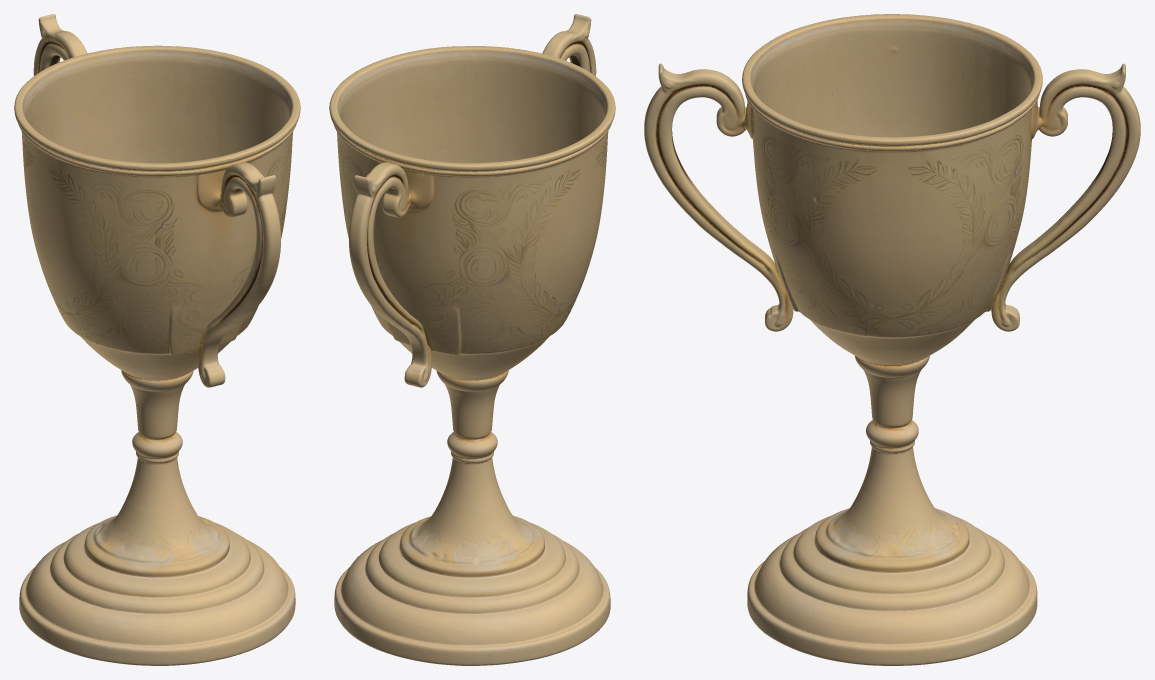
File: prop-trophy.glb
3 renders of one model, left to right at view 1: azimuth 30°, elevation 25°; view 2: azimuth 150°, elevation 25°; view 3: azimuth 270°, elevation 25°, orthographic. The views are drawn at different scales.
Visible parts, largest first — view 1: tripo_node_c4b4bc58-2219-408f-8e11-6c409434764b; view 2: tripo_node_c4b4bc58-2219-408f-8e11-6c409434764b; view 3: tripo_node_c4b4bc58-2219-408f-8e11-6c409434764b.
Part boxes in pixels (x1,y1,x2,y2): tripo_node_c4b4bc58-2219-408f-8e11-6c409434764b: (14, 14, 300, 665); tripo_node_c4b4bc58-2219-408f-8e11-6c409434764b: (329, 14, 615, 665); tripo_node_c4b4bc58-2219-408f-8e11-6c409434764b: (644, 14, 1140, 665).
Size of the model in its own units: 0.5059 by 1 by 0.8352.
Materials: 1 (1 with a texture image).
